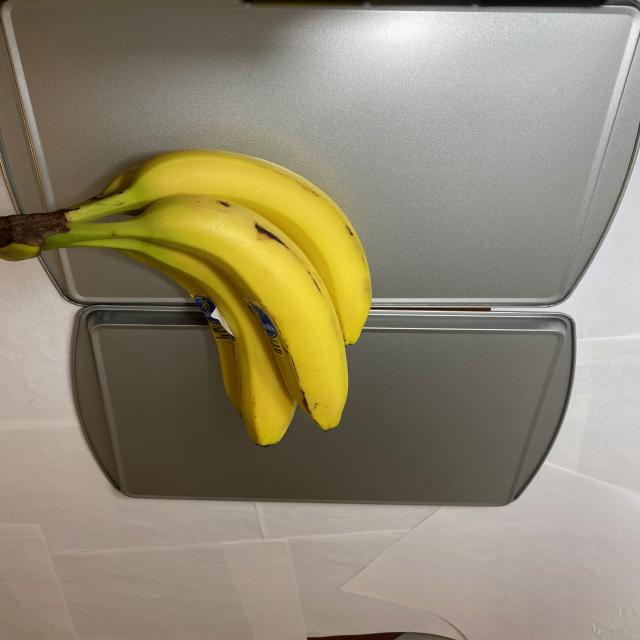banana: (5, 145, 378, 449)
